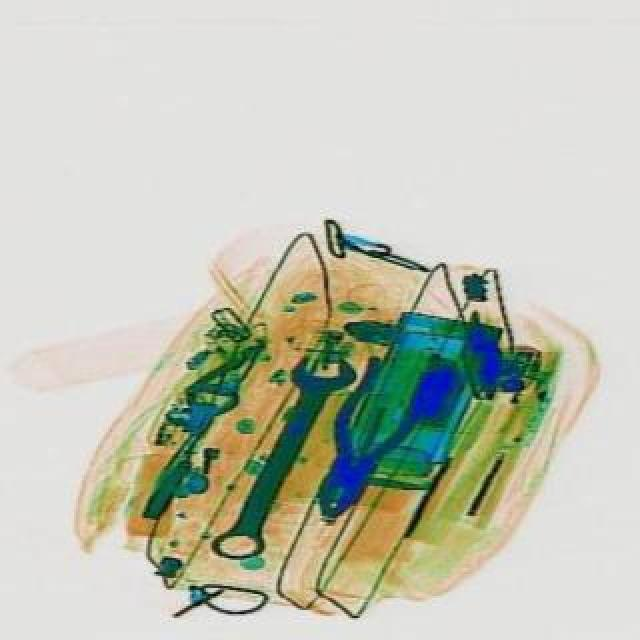scissors: (198, 342, 358, 570)
wrench: (288, 344, 440, 532)
